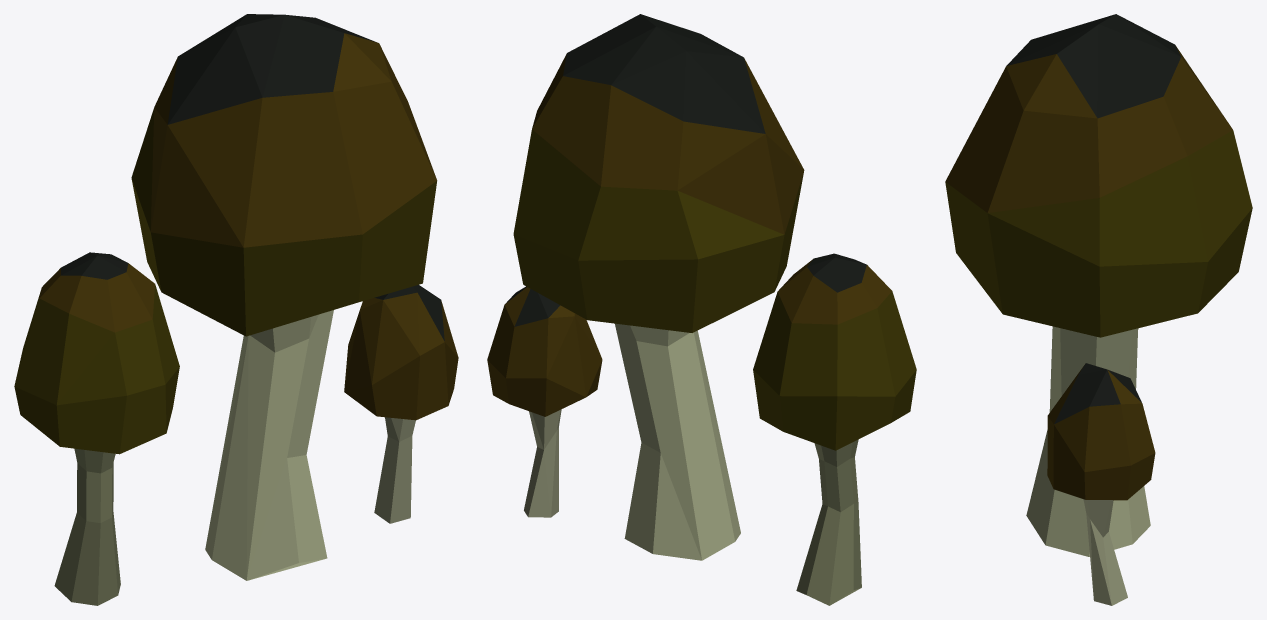
File: SM_Mushroom_07.glb
3 renders of one model, left to right at view 1: azimuth 30°, elevation 25°; view 2: azimuth 150°, elevation 25°; view 3: azimuth 270°, elevation 25°, orthographic. The views are drawn at different scales.
Parts seen in each view (by area): view 1: SM_Mushroom_07; view 2: SM_Mushroom_07; view 3: SM_Mushroom_07.
Boxes of the visible parts, x1,y1,x2,y2 form: SM_Mushroom_07: [14, 14, 458, 605]; SM_Mushroom_07: [487, 14, 916, 605]; SM_Mushroom_07: [945, 14, 1252, 605].
Bounding box in the file's own units: 0.125 × 0.1509 × 0.0801.
Materials: 1 (1 with a texture image).
